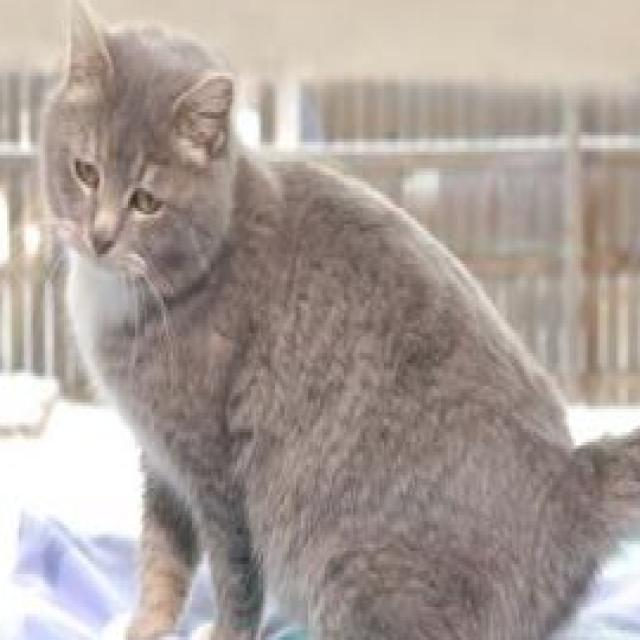British Shorthair: (38, 0, 640, 640)
